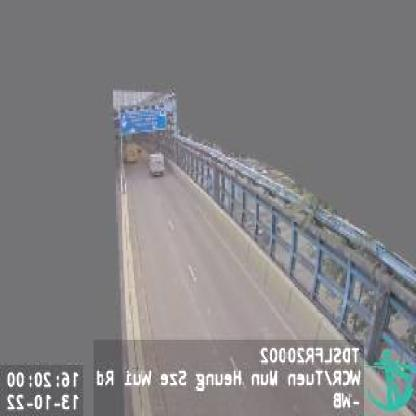Truck: (145, 152, 164, 178)
